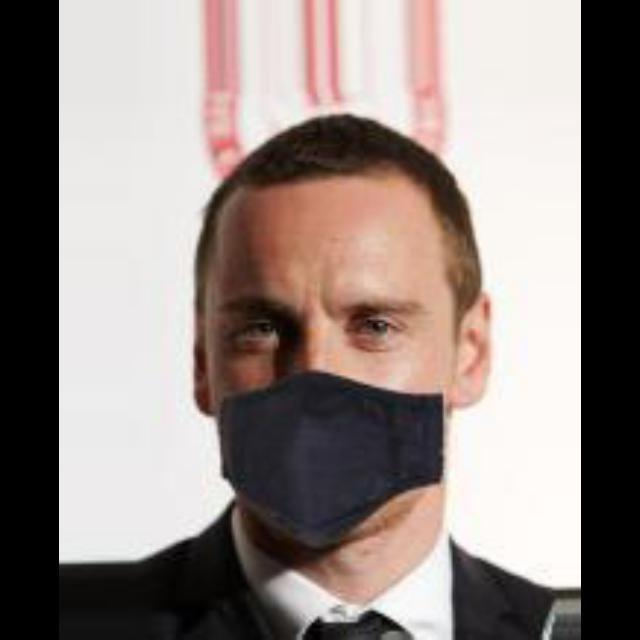suspicion: (199, 106, 501, 534)
